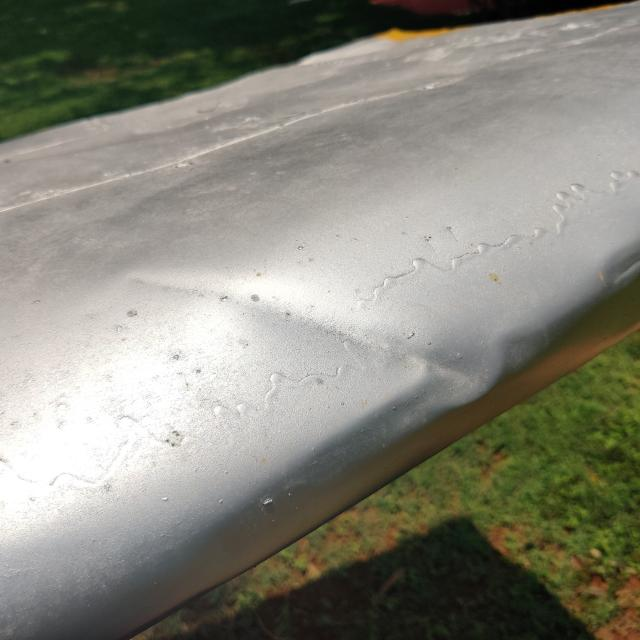dent: (158, 248, 544, 467), (591, 233, 640, 307)
